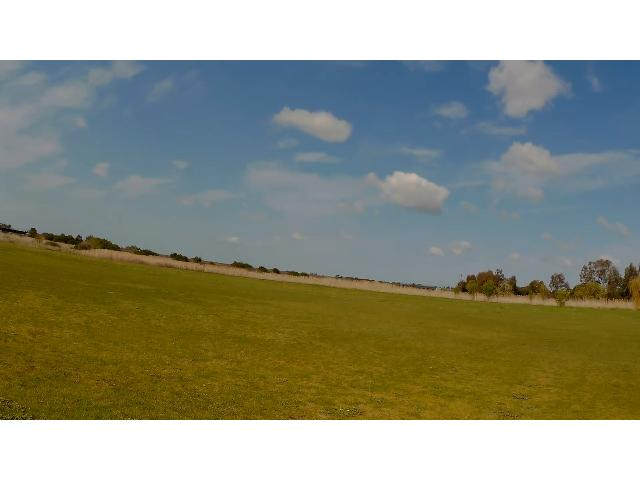Anti-Drone: (232, 195, 254, 215)
